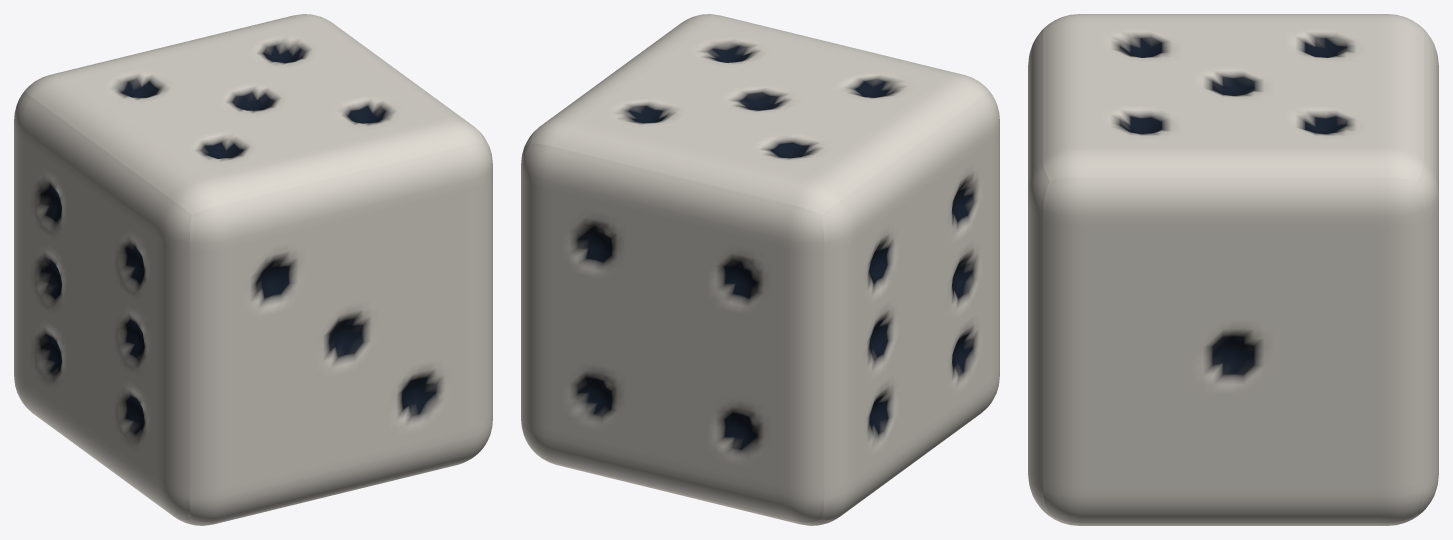
File: die.glb
3 views of the same model, side by side, from view 1: azimuth 30°, elevation 25°; view 2: azimuth 150°, elevation 25°; view 3: azimuth 270°, elevation 25° (orthographic). The views are drawn at different scales.
Visible parts, largest first — view 1: Recessed_pips_4, Recessed_pips_1, Recessed_pips_2, Recessed_pips_3, Recessed_pips_0; view 2: Recessed_pips_5, Recessed_pips_1, Recessed_pips_2, Recessed_pips_3, Recessed_pips_0; view 3: Recessed_pips_0, Recessed_pips_2, Recessed_pips_4, Recessed_pips_5, Recessed_pips_3.
Part boxes in pixels (bbox=[...]): Recessed_pips_4: bbox=[189, 143, 491, 522]; Recessed_pips_1: bbox=[14, 92, 191, 519]; Recessed_pips_2: bbox=[24, 14, 482, 214]; Recessed_pips_3: bbox=[175, 455, 475, 525]; Recessed_pips_0: bbox=[478, 130, 492, 439]; Recessed_pips_5: bbox=[522, 143, 824, 522]; Recessed_pips_1: bbox=[822, 92, 999, 519]; Recessed_pips_2: bbox=[531, 14, 989, 214]; Recessed_pips_3: bbox=[538, 455, 838, 525]; Recessed_pips_0: bbox=[521, 130, 535, 439]; Recessed_pips_0: bbox=[1043, 178, 1423, 522]; Recessed_pips_2: bbox=[1043, 14, 1423, 180]; Recessed_pips_4: bbox=[1028, 28, 1049, 513]; Recessed_pips_5: bbox=[1417, 28, 1438, 513]; Recessed_pips_3: bbox=[1046, 513, 1420, 525].
Bounding box in the file's own units: 0.68 × 0.68 × 0.68.
